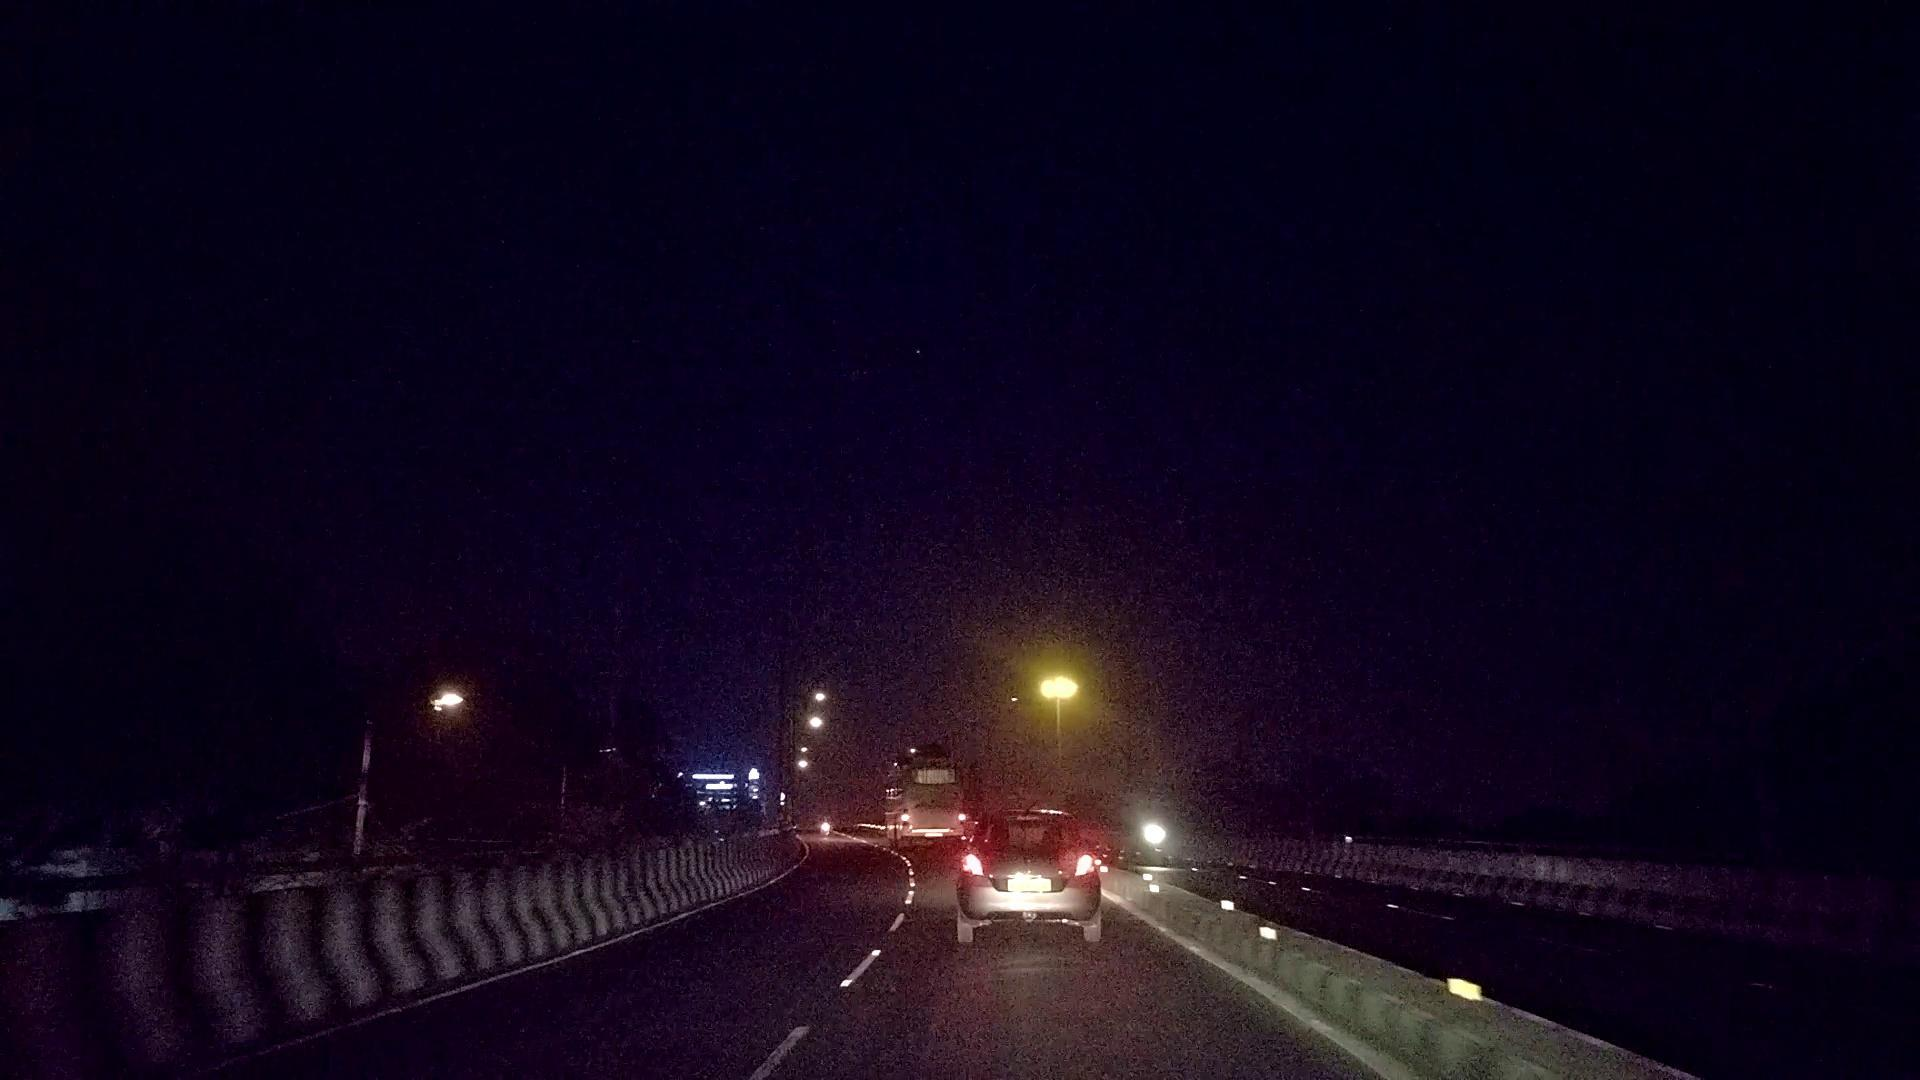on: (360, 632, 655, 858), (910, 603, 1175, 771)
